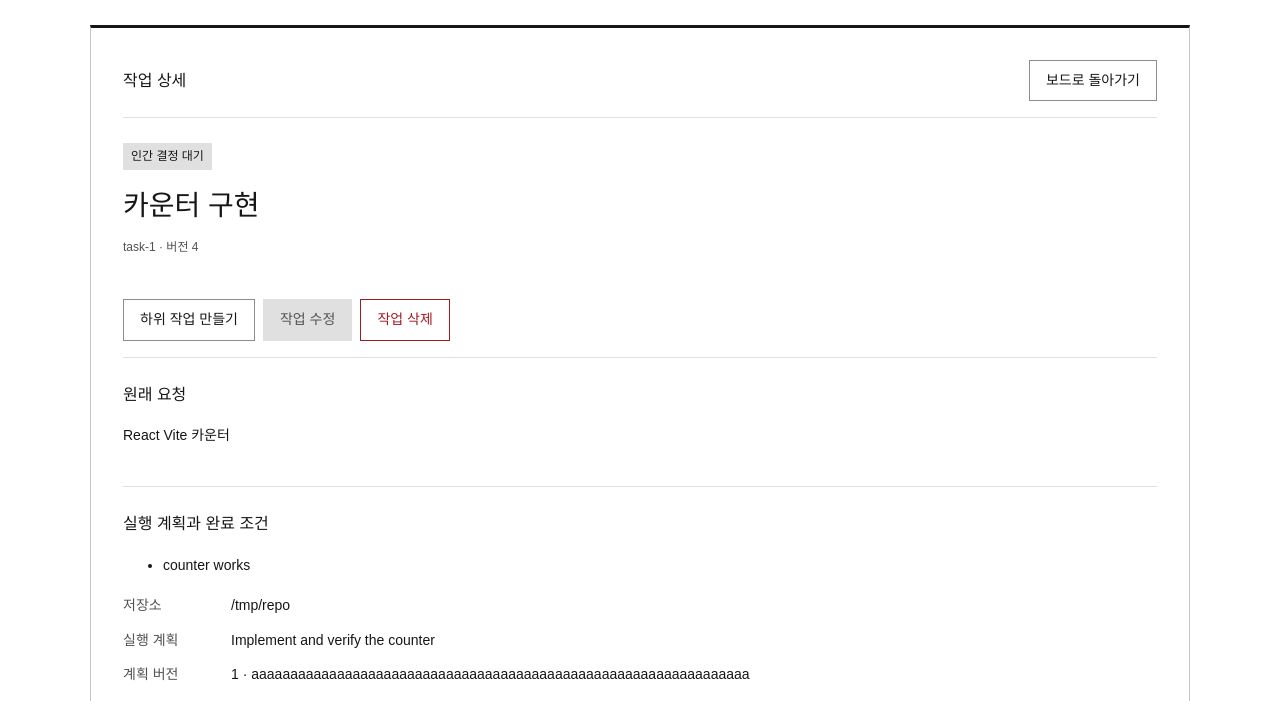
Test case: an older server shows the cascade capability error without hiding it as an unknown write result
(page scrolled)
Step 1. Click the button "작업 삭제" → (405, 320), box [360,299,450,341]
(page scrolled)
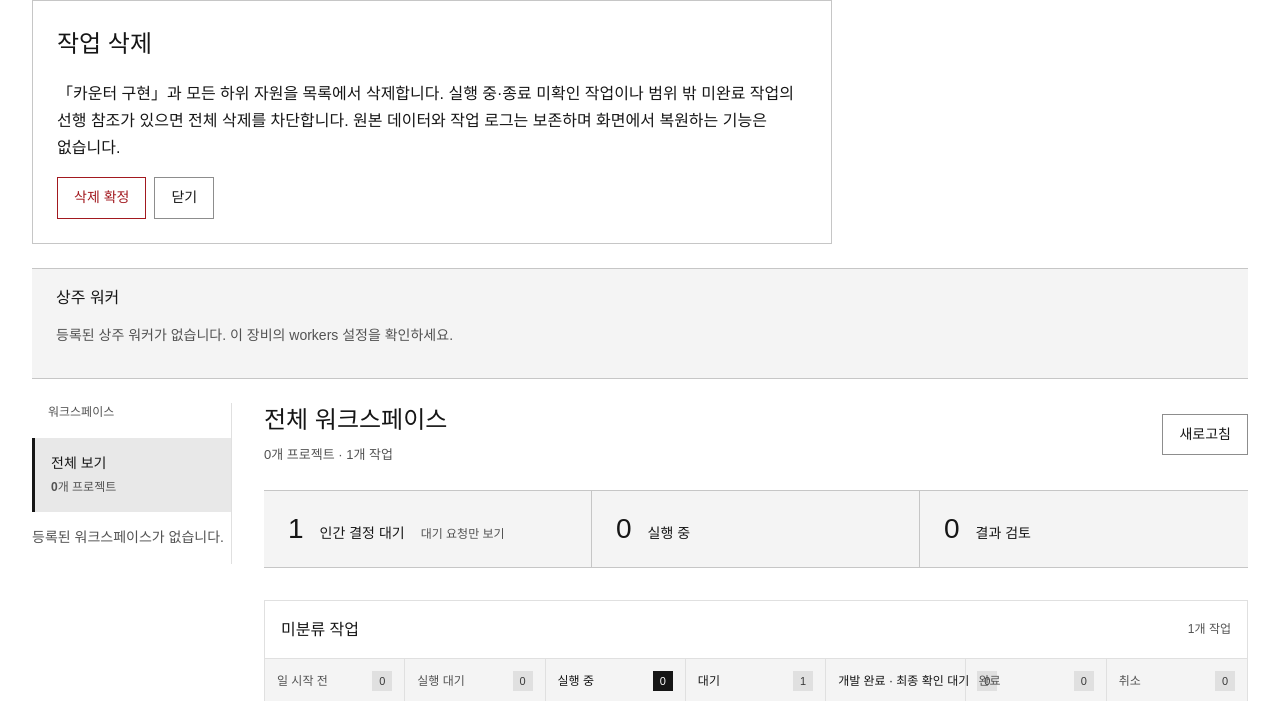
Step 2. Click the button "삭제 확정" → (102, 198), box [57,177,146,219]
(page scrolled)
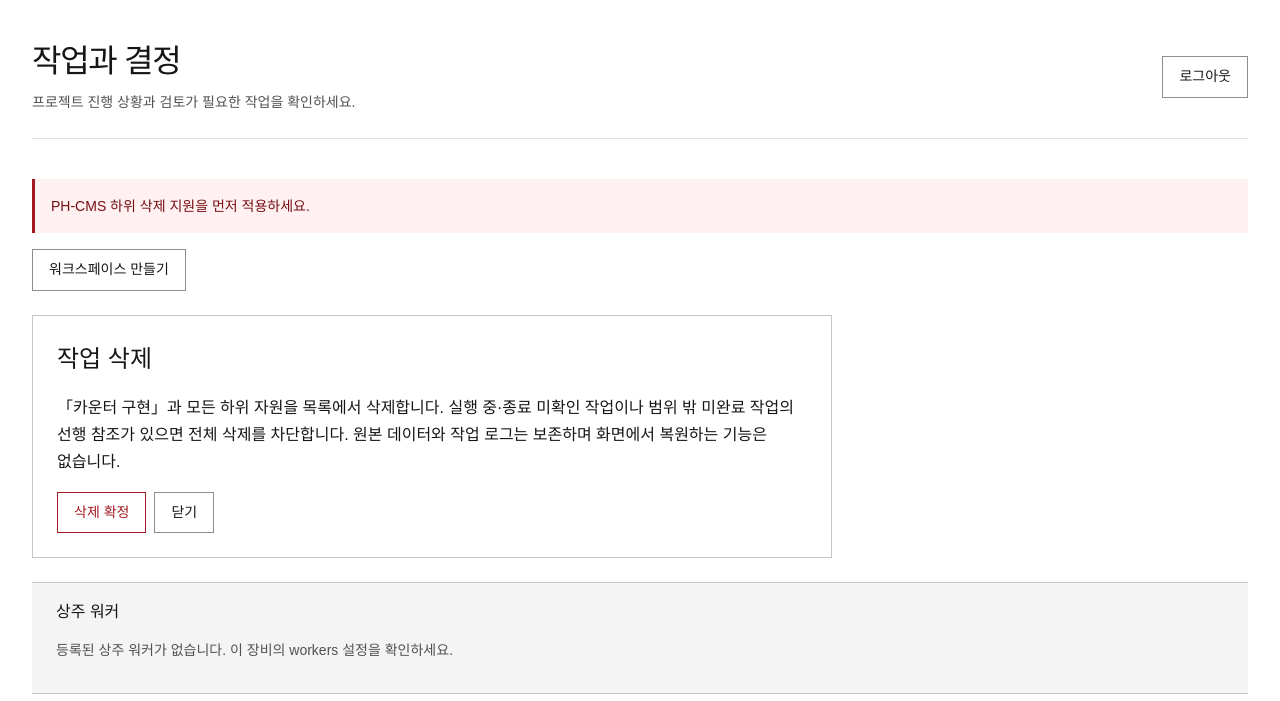
Result: the message reads "PH-CMS 하위 삭제 지원을 먼저 적용하세요." at [51,198,310,214]
